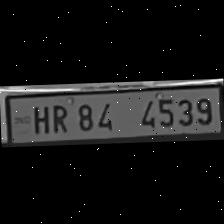3: (174, 94, 192, 125)
4: (92, 97, 118, 130), (134, 94, 156, 128)
5: (154, 93, 174, 126)
8: (71, 99, 95, 131)
9: (191, 94, 213, 124)
H: (28, 100, 50, 132)
R: (47, 100, 69, 134)
